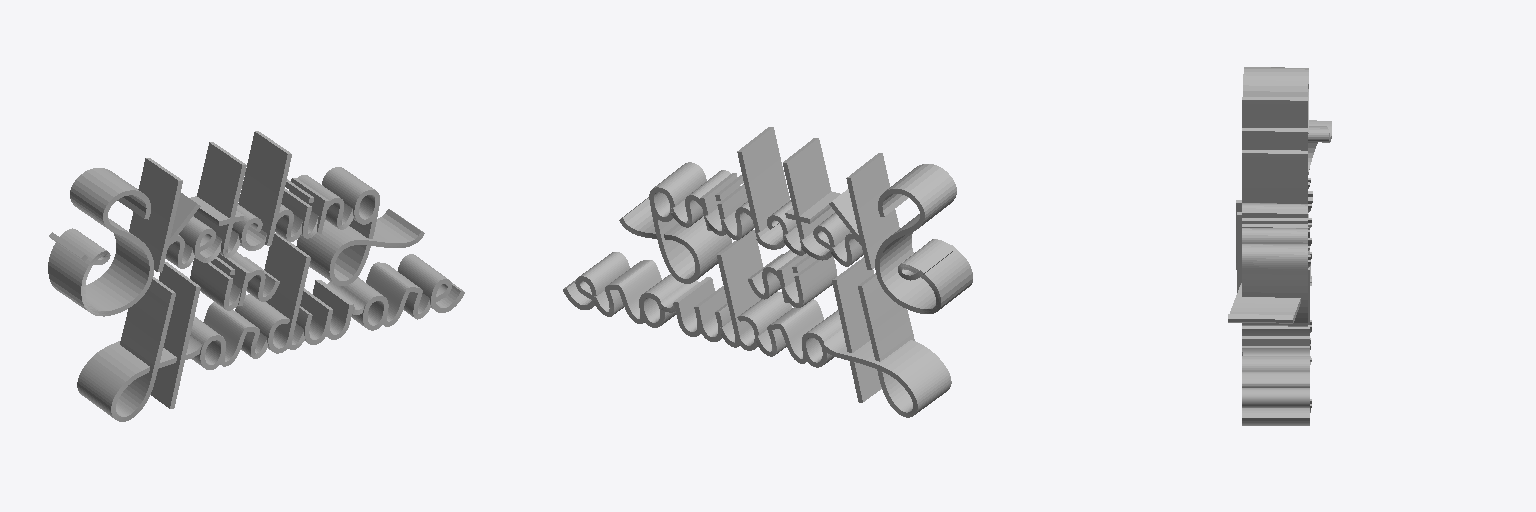
File: sk2017_lockup_v2.obj
The picture shows the model from 3 angles: view 1: azimuth 30°, elevation 25°; view 2: azimuth 150°, elevation 25°; view 3: azimuth 270°, elevation 25°; orthographic projection.
Parts seen in each view (by area): view 1: Sketching_Mesh.003, Hardware_Mesh.025, in_Mesh.016; view 2: Sketching_Mesh.003, Hardware_Mesh.025, in_Mesh.016; view 3: Sketching_Mesh.003, Hardware_Mesh.025.
Boxes of the visible parts, x1,y1,x2,y2 form: Sketching_Mesh.003: [48, 131, 424, 316]; Hardware_Mesh.025: [77, 233, 464, 421]; in_Mesh.016: [190, 252, 279, 310]; Sketching_Mesh.003: [619, 127, 972, 313]; Hardware_Mesh.025: [563, 230, 951, 417]; in_Mesh.016: [748, 250, 836, 307]; Sketching_Mesh.003: [1228, 67, 1331, 326]; Hardware_Mesh.025: [1236, 200, 1311, 425].
Bounding box in the file's own units: 3.25 × 1.86 × 0.7717.